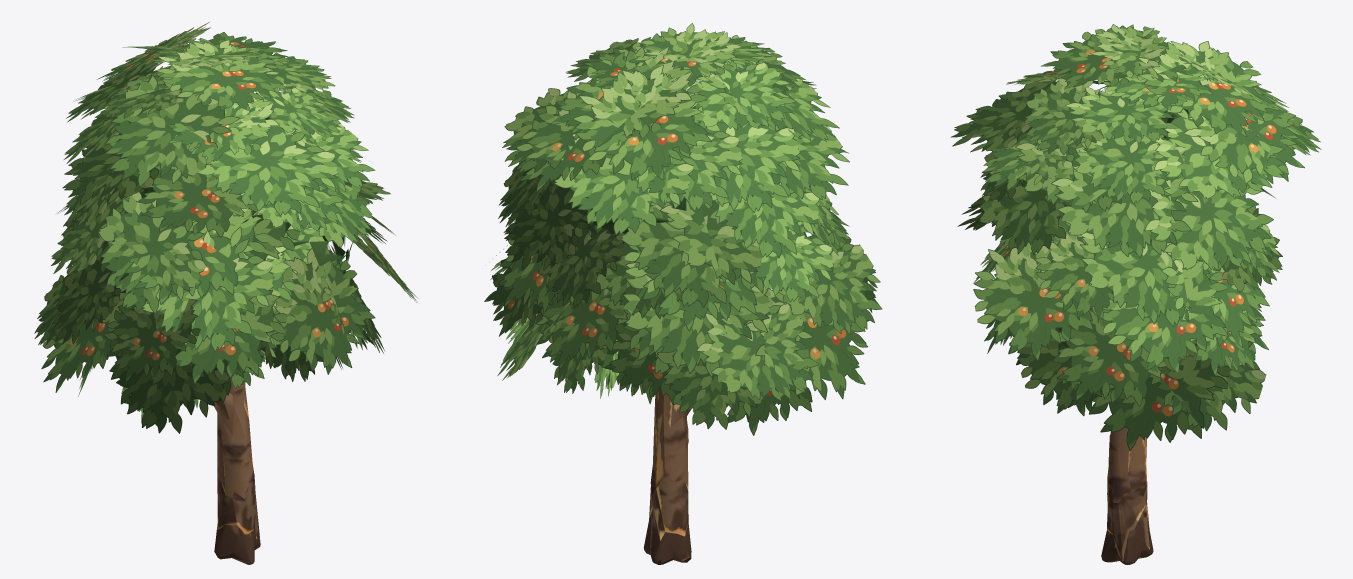
File: fruit_tree.glb
The picture shows the model from 3 angles, left to right: view 1: azimuth 30°, elevation 25°; view 2: azimuth 150°, elevation 25°; view 3: azimuth 270°, elevation 25°; orthographic projection. The views are drawn at different scales.
Visible parts, largest first — view 1: fruit_tree; view 2: fruit_tree; view 3: fruit_tree.
Part boxes in pixels (x1,y1,x2,y2): fruit_tree: [34, 22, 418, 564]; fruit_tree: [484, 23, 882, 564]; fruit_tree: [950, 24, 1321, 564].
Size of the model in its own units: 3.62 by 4.68 by 3.41.
1 material, 1 textured.
